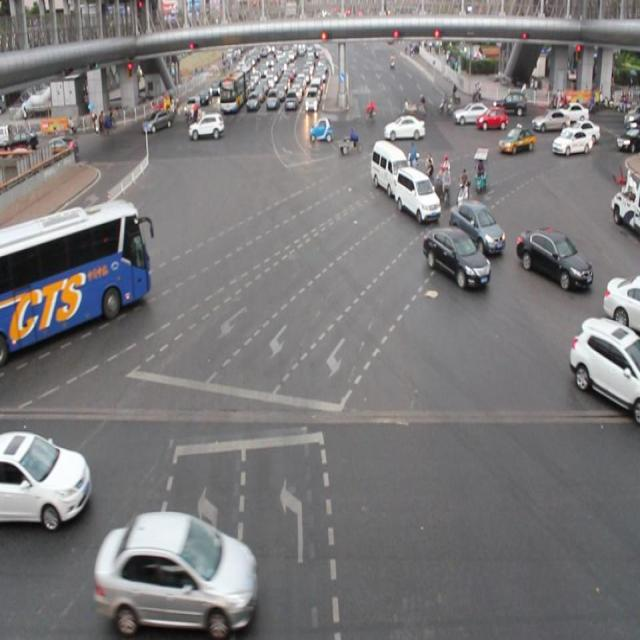car: (92, 504, 260, 634), (1, 422, 92, 531), (568, 312, 640, 420), (516, 225, 594, 292), (422, 223, 488, 294), (449, 196, 504, 257), (603, 271, 640, 329), (552, 127, 592, 159), (499, 125, 533, 156), (188, 114, 224, 141), (383, 118, 425, 140), (478, 106, 505, 130)
truck: (394, 166, 437, 224), (370, 138, 404, 193)
van: (0, 197, 148, 364)
